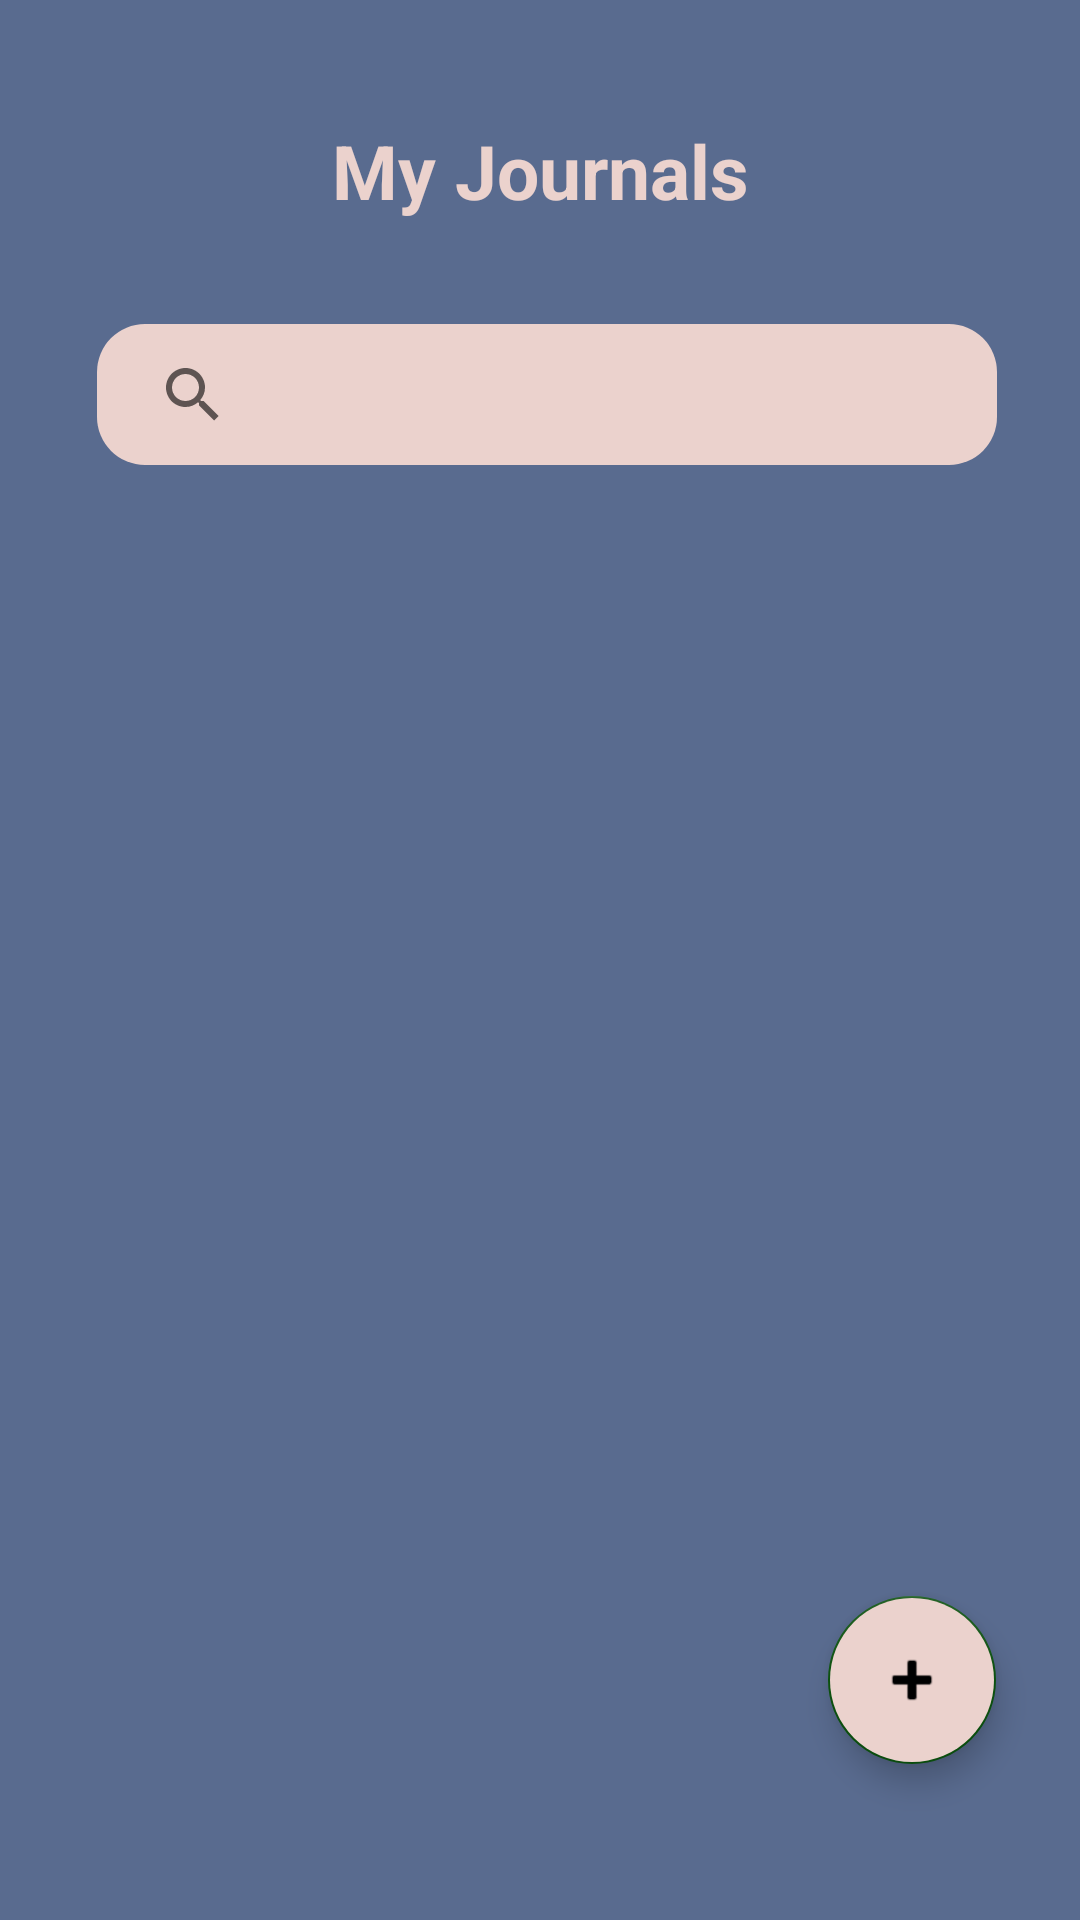

Icon click points for this 1080×1920 phone screenshot, format point (x, y):
Add Journal: point (912, 1680)
